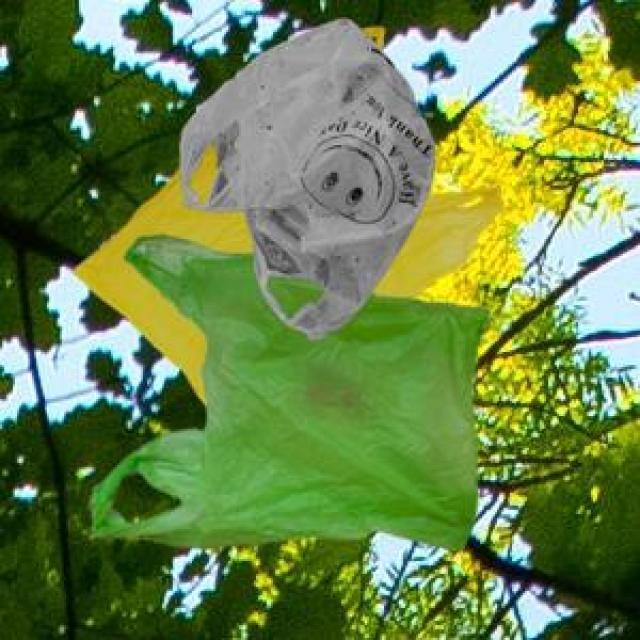waste: (78, 20, 500, 544)
